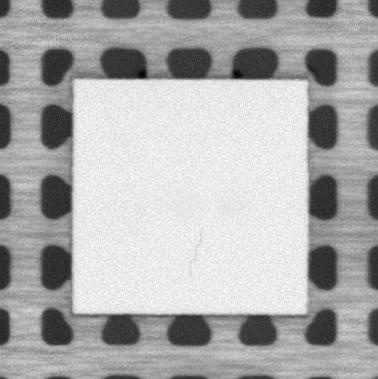DIE_CRACK: (187, 227, 206, 277)
